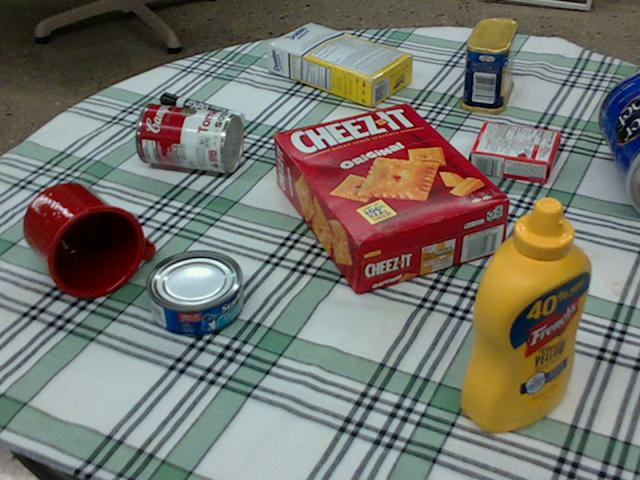cracker_box: (276, 102, 510, 291)
gelatin_box: (468, 122, 557, 180)
large_marker: (158, 92, 242, 125)
master_chef_can: (595, 71, 639, 209)
mug: (22, 182, 151, 298)
mustard_bottle: (462, 195, 592, 430)
potted_meat_can: (459, 17, 516, 113)
sugar_box: (267, 22, 414, 106)
tomato_soup_can: (135, 102, 243, 171)
tuna_fish_can: (143, 250, 242, 336)
